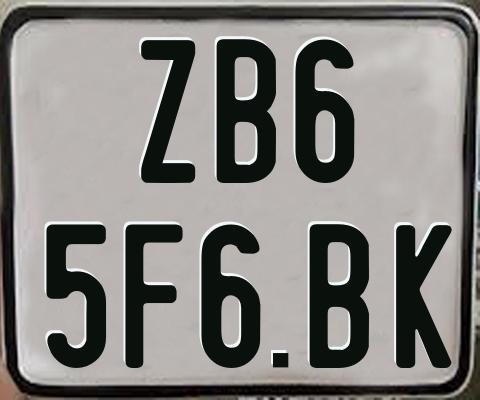5: (46, 221, 106, 371)
6: (199, 224, 264, 369), (295, 39, 359, 183)
B: (215, 39, 278, 186), (308, 224, 368, 372)
F: (122, 224, 182, 373)
K: (393, 222, 455, 367)
Z: (139, 38, 199, 183)
